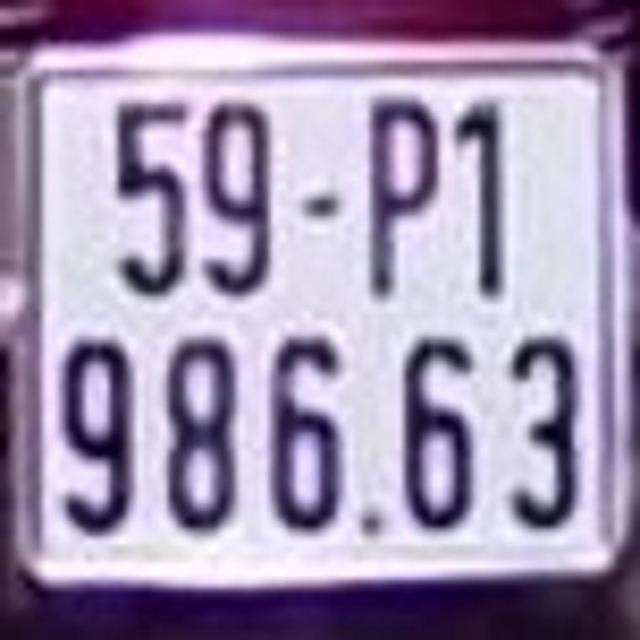1: (458, 98, 512, 293)
3: (511, 334, 578, 530)
5: (110, 98, 187, 290)
6: (264, 334, 348, 524), (402, 334, 480, 530)
8: (165, 338, 246, 533)
9: (196, 96, 275, 296), (59, 338, 129, 537)
P: (360, 97, 438, 297)
